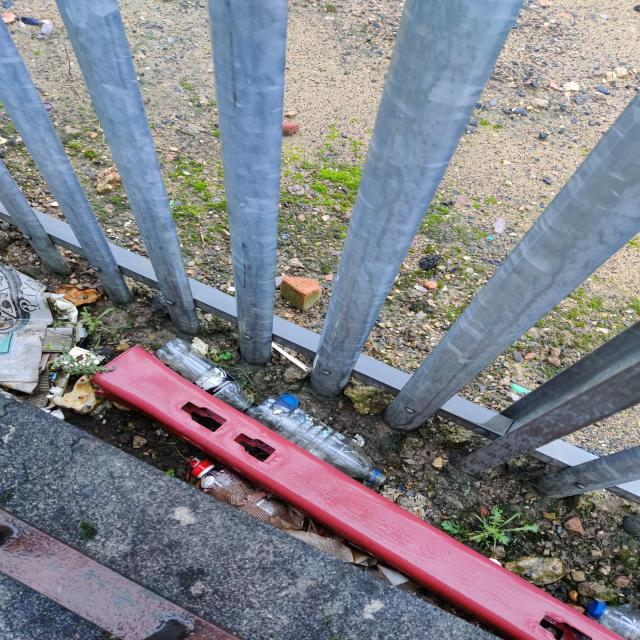litter: (250, 396, 389, 488), (156, 339, 252, 414), (190, 462, 294, 529), (585, 603, 639, 638), (282, 277, 323, 313), (278, 390, 301, 411)
